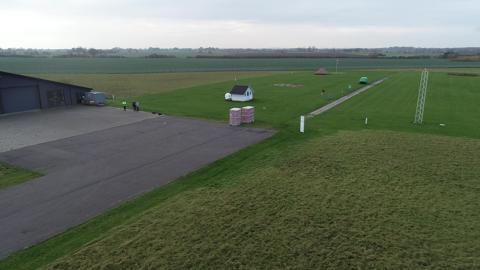RockwoolPallet: (241, 106, 256, 125)
